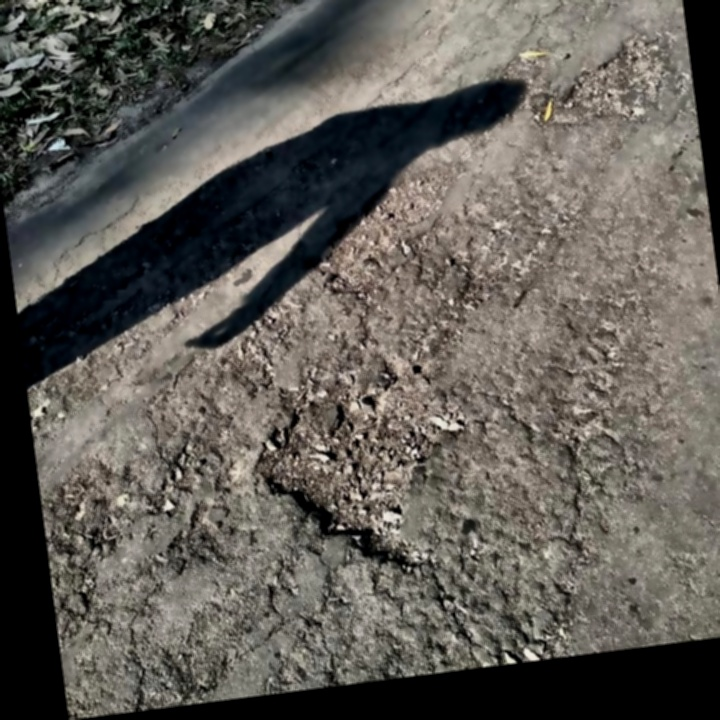pothole: (244, 360, 483, 588), (305, 160, 477, 302), (554, 35, 674, 126)
